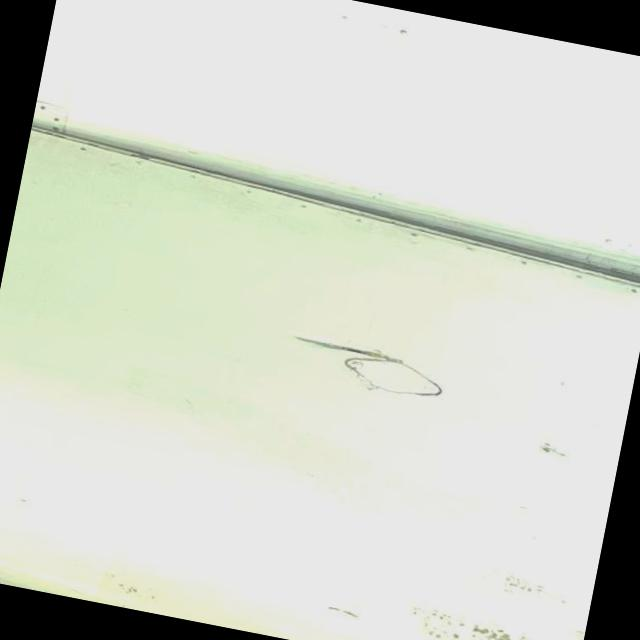crack: (298, 336, 398, 370)
